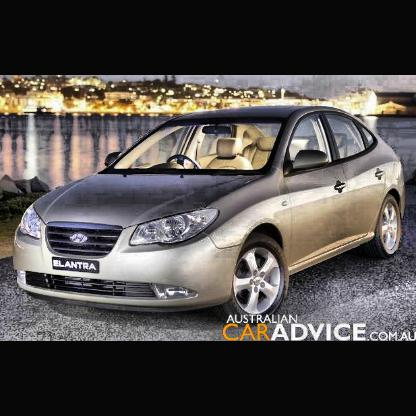Hyundai Elantra Sedan 2007: (16, 106, 407, 324)
